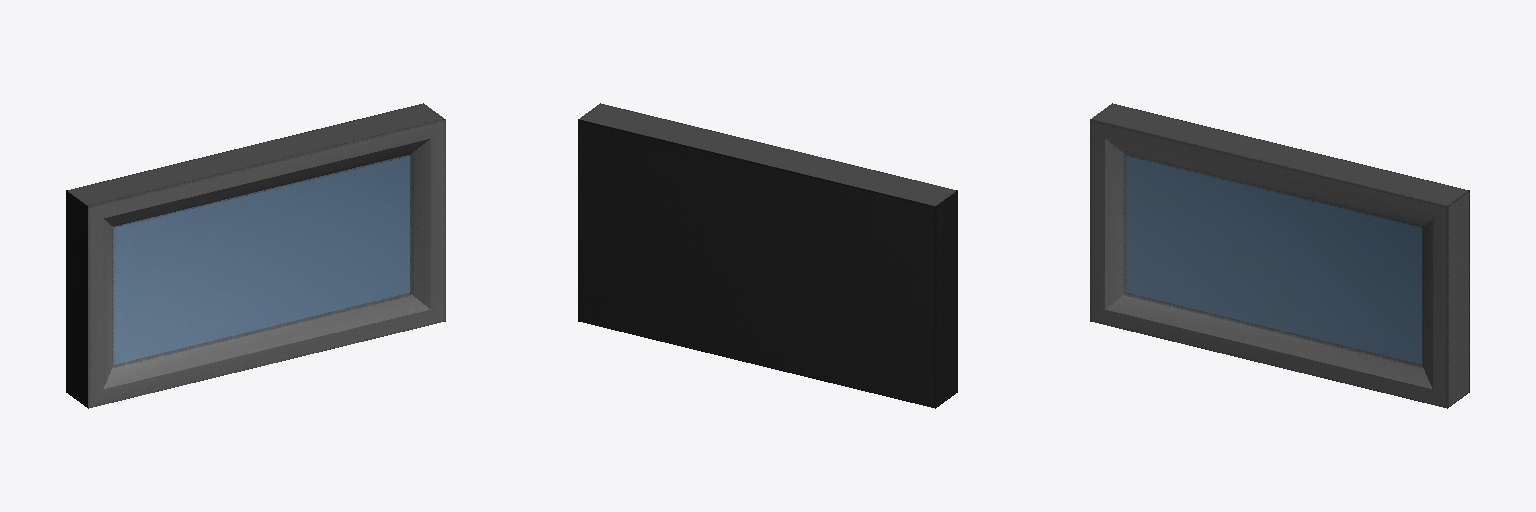
The picture shows the model from 3 angles: view 1: azimuth 30°, elevation 25°; view 2: azimuth 150°, elevation 25°; view 3: azimuth 330°, elevation 25°; orthographic projection.
Visible parts, largest first — view 1: scorecard003; view 2: scorecard003; view 3: scorecard003.
Boxes of the visible parts, x1=… form: scorecard003: x1=66, y1=103, x2=445, y2=408; scorecard003: x1=578, y1=103, x2=957, y2=408; scorecard003: x1=1090, y1=103, x2=1469, y2=408.
Size of the model in its own units: 52.17 by 28.19 by 5.56.
Materials: 1 (1 with a texture image).